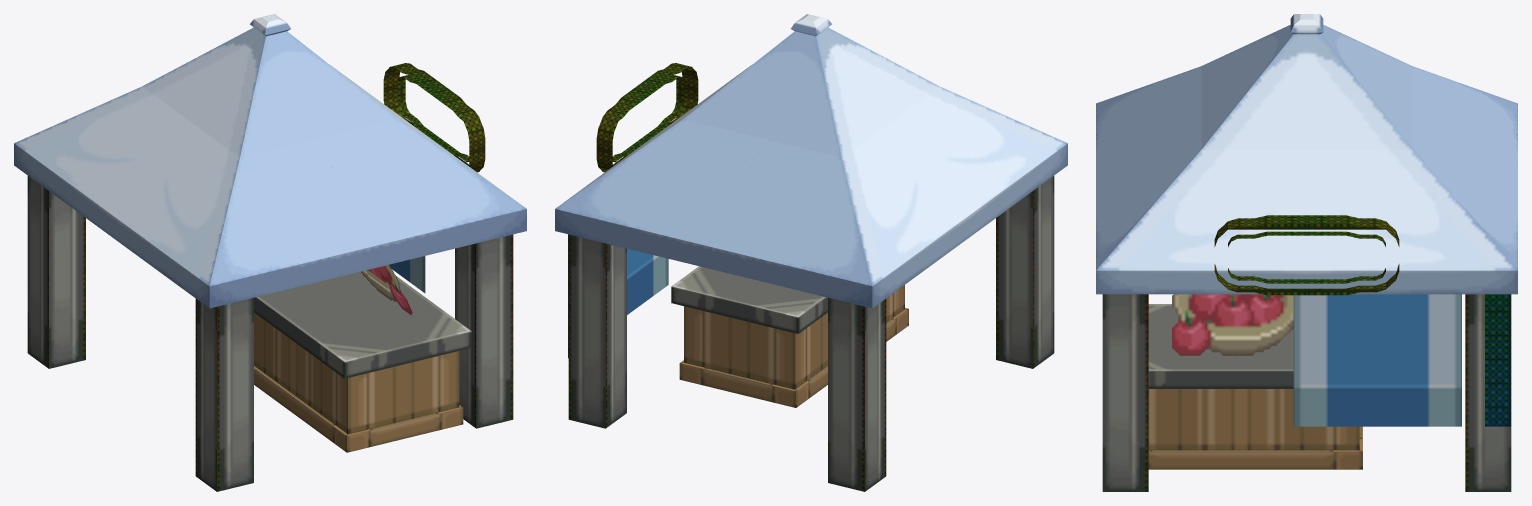
File: Prp_3D_BazaarStall3.fbx
3 views of the same model, side by side, from view 1: azimuth 30°, elevation 25°; view 2: azimuth 150°, elevation 25°; view 3: azimuth 270°, elevation 25° (orthographic). The views are drawn at different scales.
Parts seen in each view (by area): view 1: BazaarStall3; view 2: BazaarStall3; view 3: BazaarStall3.
Boxes of the visible parts, left/top/right/bottom form: BazaarStall3: left=14, top=14, right=526, bottom=491; BazaarStall3: left=555, top=14, right=1067, bottom=491; BazaarStall3: left=1096, top=14, right=1517, bottom=491.
Bounding box in the file's own units: 368 × 391 × 376.
